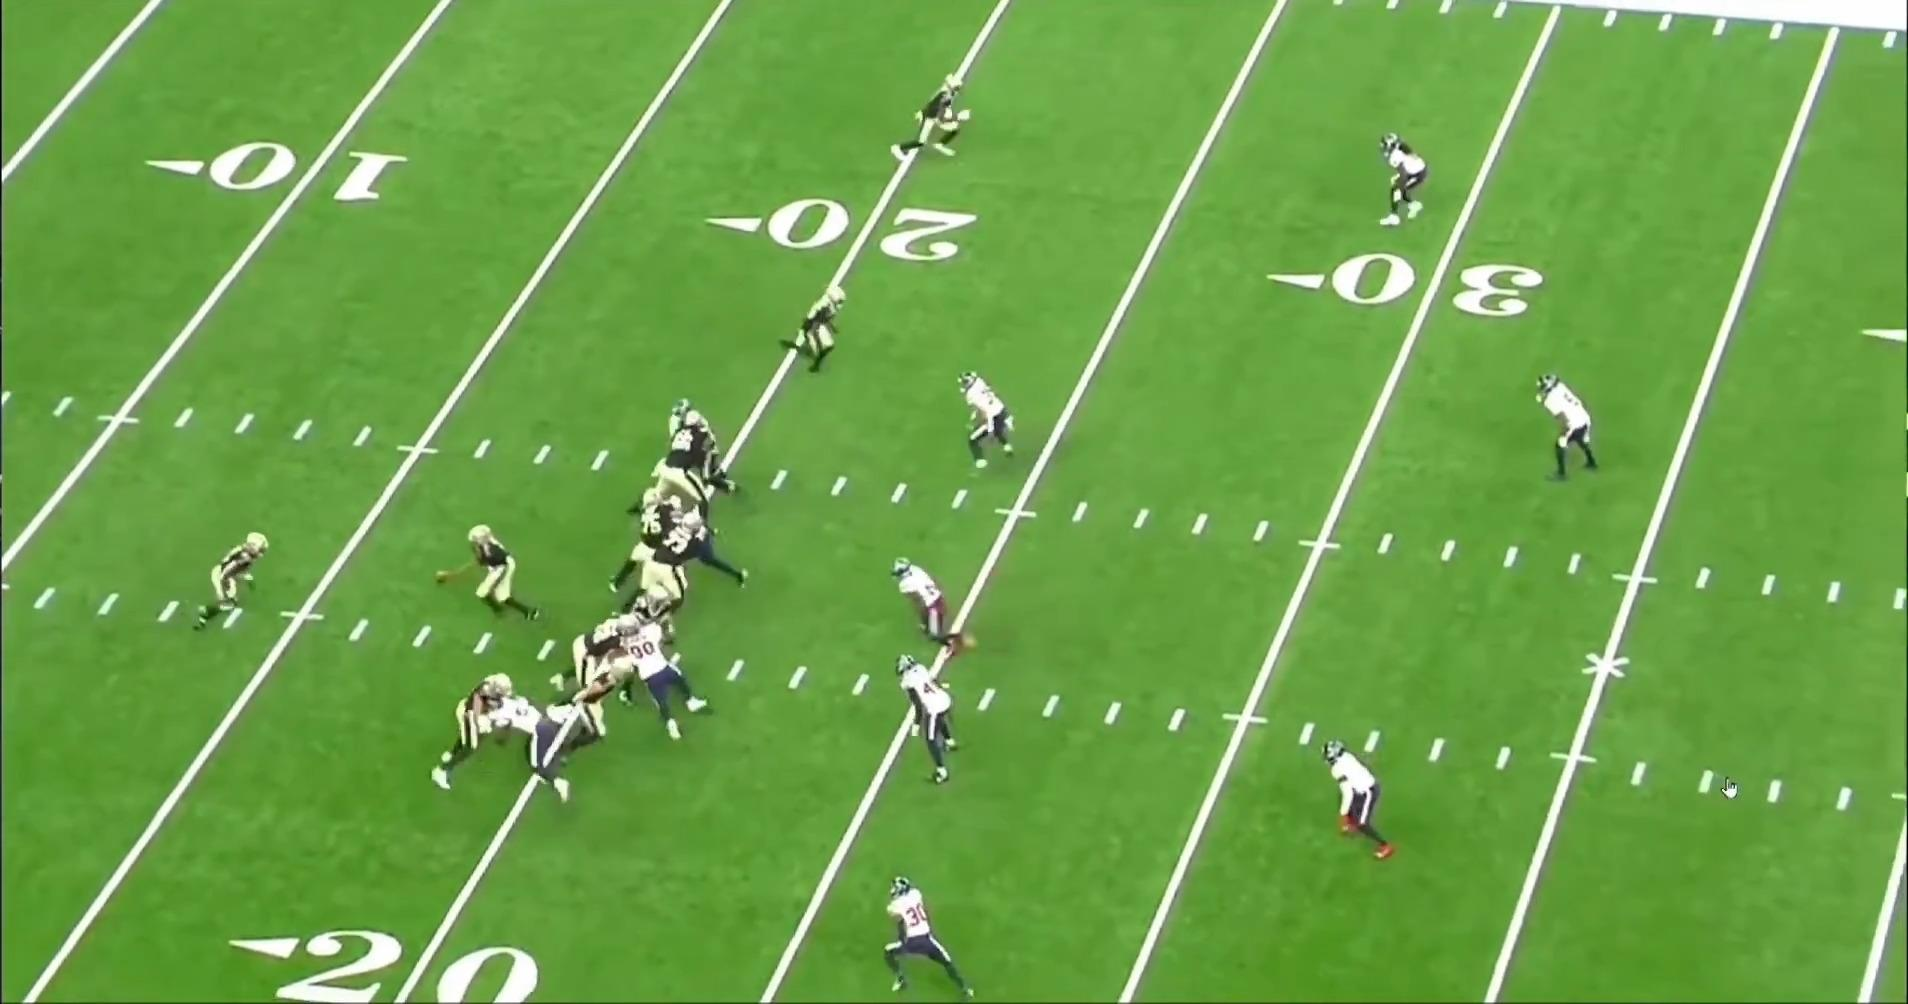player: (481, 689, 583, 807), (628, 617, 724, 742), (875, 875, 969, 1001), (432, 520, 538, 627), (632, 409, 723, 532), (427, 667, 517, 790), (1321, 738, 1400, 868), (895, 554, 988, 660), (895, 649, 962, 785), (887, 64, 973, 167), (543, 613, 638, 701), (659, 501, 752, 590), (556, 657, 636, 759), (1535, 371, 1604, 489), (671, 397, 750, 500), (614, 505, 692, 606), (197, 527, 269, 629), (949, 368, 1014, 476), (783, 281, 852, 379), (1382, 131, 1438, 234), (624, 580, 686, 643), (634, 484, 690, 542)
